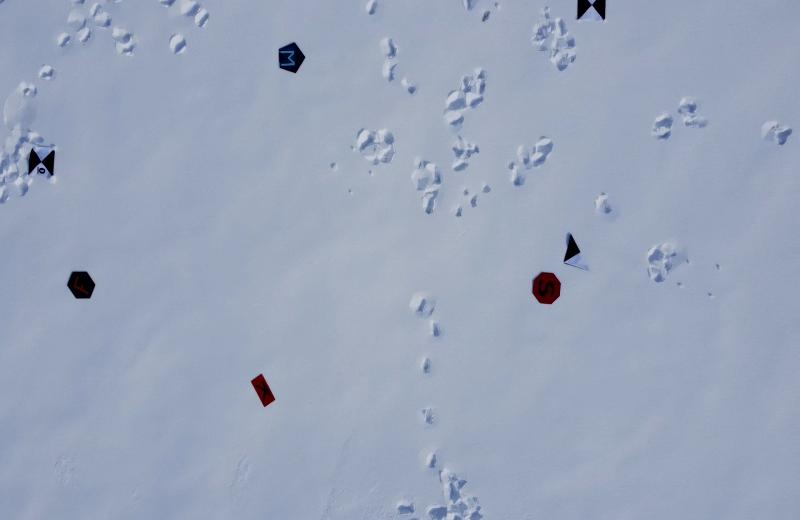Hexagon: (65, 267, 97, 304)
Octagon: (528, 267, 563, 308)
Pentagon: (274, 38, 308, 76)
Rectangle: (248, 369, 277, 412)
